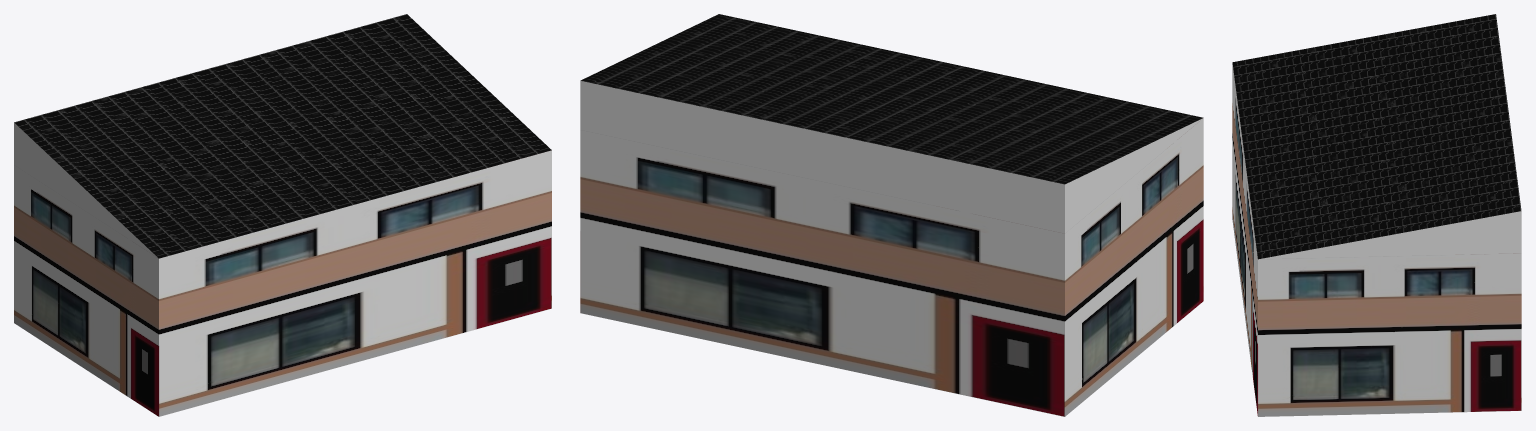
The picture shows the model from 3 angles, left to right: view 1: azimuth 30°, elevation 25°; view 2: azimuth 150°, elevation 25°; view 3: azimuth 270°, elevation 25°; orthographic projection. The views are drawn at different scales.
Visible parts, largest first — view 1: CityEngineMaterial_5_m, CityEngineMaterial_14_m, CityEngineMaterial_3_m; view 2: CityEngineMaterial_5_m, CityEngineMaterial_14_m, CityEngineMaterial_3_m; view 3: CityEngineMaterial_14_m, CityEngineMaterial_5_m, CityEngineMaterial_3_m.
Boxes of the visible parts, <box> form: CityEngineMaterial_5_m: <box>14,150,551,416</box>; CityEngineMaterial_14_m: <box>14,14,551,258</box>; CityEngineMaterial_3_m: <box>14,123,157,257</box>; CityEngineMaterial_5_m: <box>580,118,1203,416</box>; CityEngineMaterial_14_m: <box>580,14,1203,184</box>; CityEngineMaterial_3_m: <box>580,81,1202,233</box>; CityEngineMaterial_14_m: <box>1232,14,1521,259</box>; CityEngineMaterial_5_m: <box>1232,63,1521,416</box>; CityEngineMaterial_3_m: <box>1259,211,1521,259</box>.
Size of the model in its own units: 24.12 by 11.06 by 14.5.
